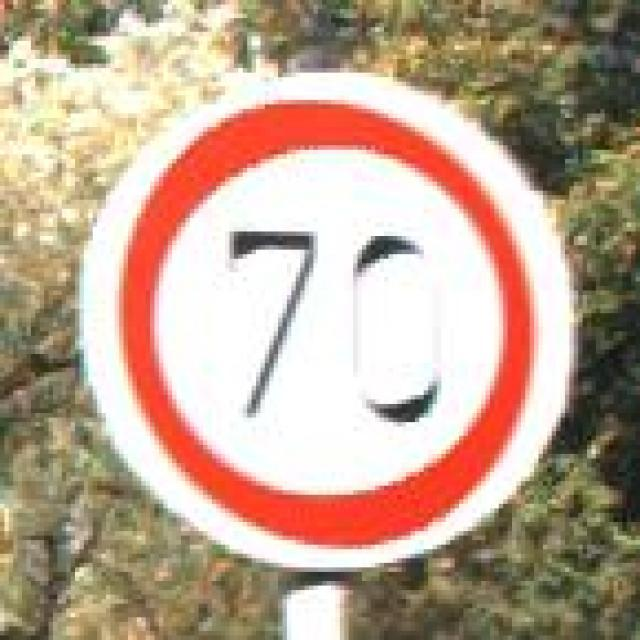Ograniczenie predkosci do 70: (57, 59, 587, 586)
